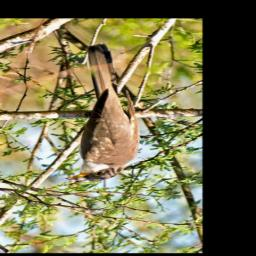Cuckoo: (66, 44, 141, 181)
